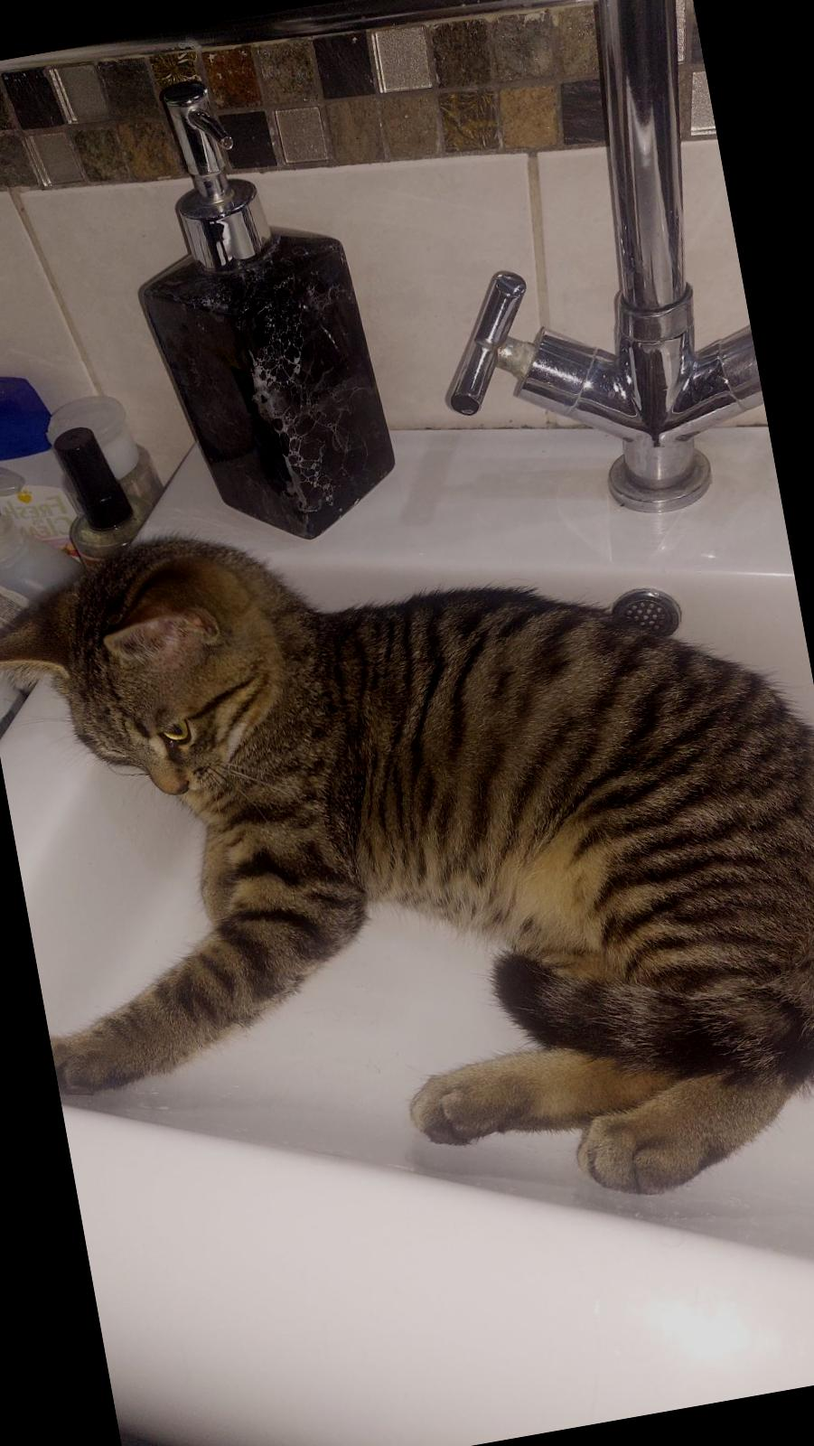macka: (0, 431, 814, 1297)
